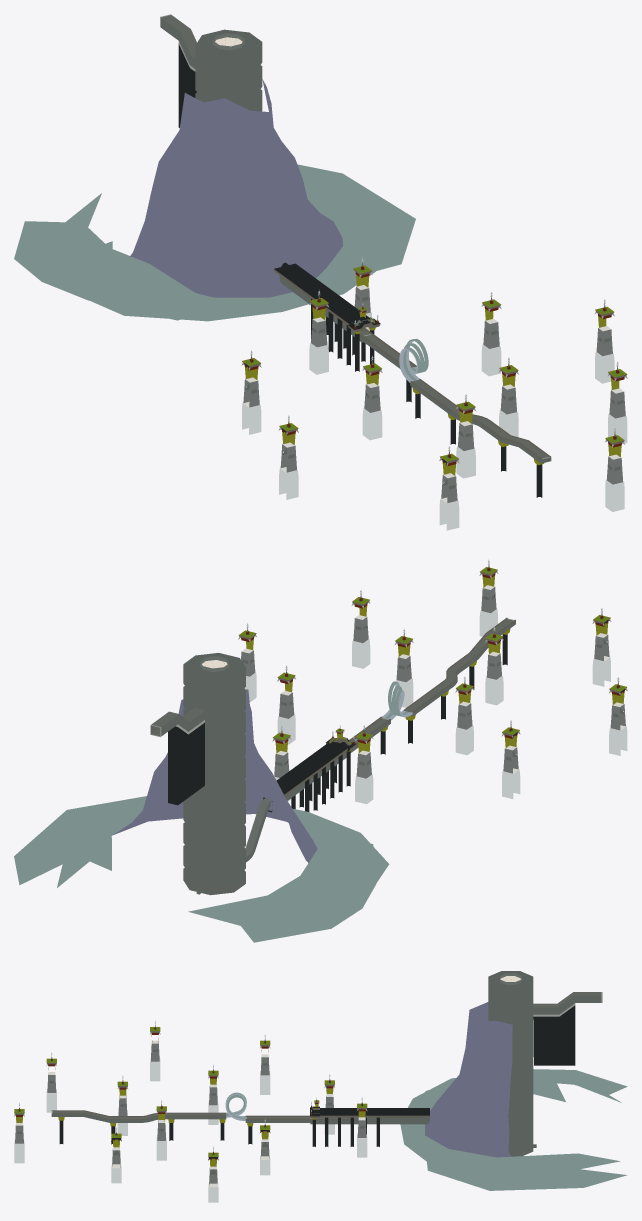
Rendered from Chunk5.obj.
The picture shows the model from 3 angles, top to bottom: view 1: azimuth 30°, elevation 25°; view 2: azimuth 150°, elevation 25°; view 3: azimuth 270°, elevation 25°; orthographic projection. The views are drawn at different scales.
Size of the model in its own units: 4770 by 2901 by 9497.
